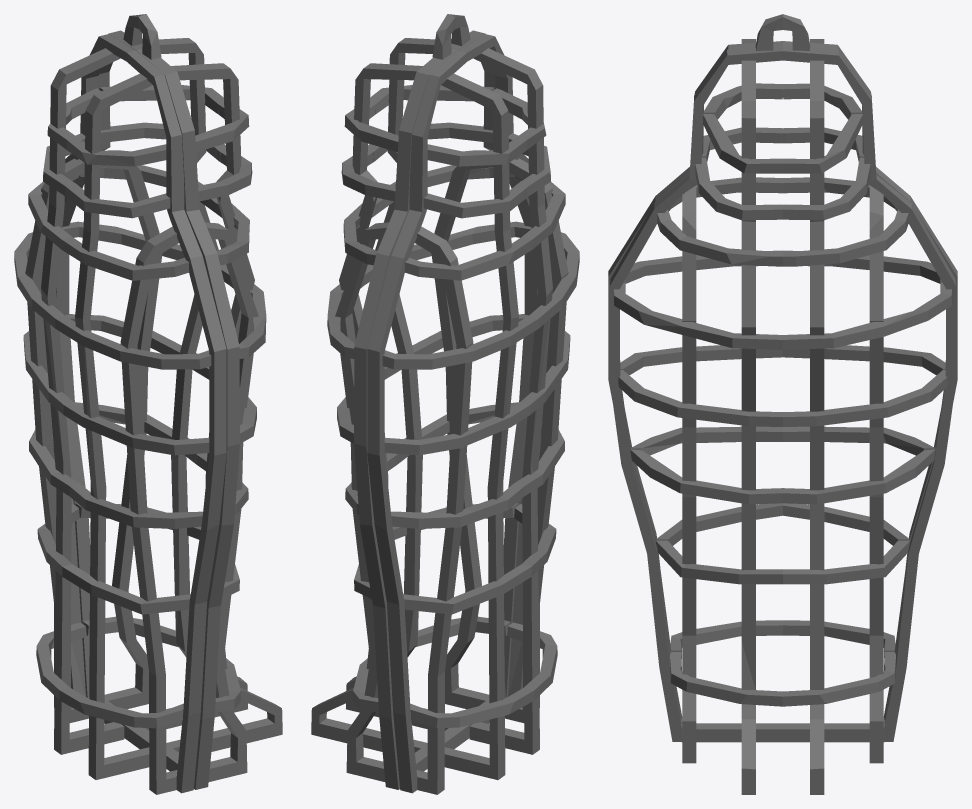
The model's file is LPCP_Cage26.fbx.
3 views of the same model, side by side, from view 1: azimuth 30°, elevation 25°; view 2: azimuth 150°, elevation 25°; view 3: azimuth 270°, elevation 25° (orthographic).
Visible parts, largest first — view 1: LPCP_Cage26; view 2: LPCP_Cage26; view 3: LPCP_Cage26.
Part boxes in pixels (box(x1,y1,x2,y2)): LPCP_Cage26: box(14, 14, 282, 794); LPCP_Cage26: box(311, 14, 579, 794); LPCP_Cage26: box(608, 14, 957, 794).
Bounding box in the file's own units: 1.81 × 6.12 × 2.69.
